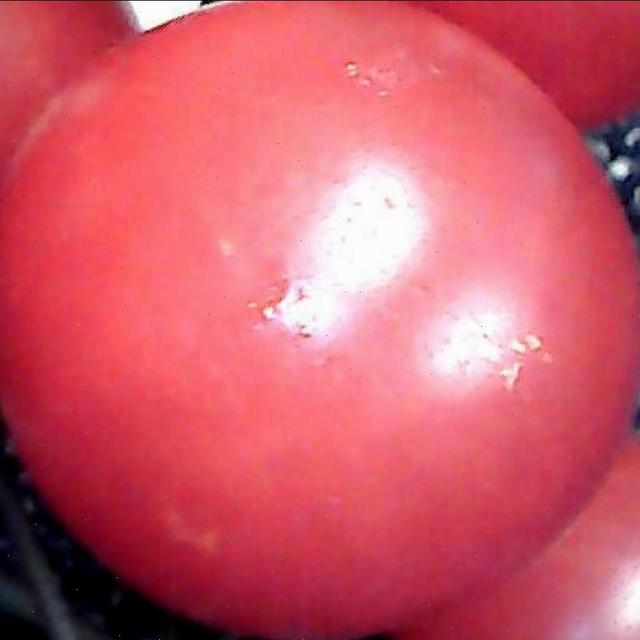Healthy Fruit: (0, 0, 425, 408)
